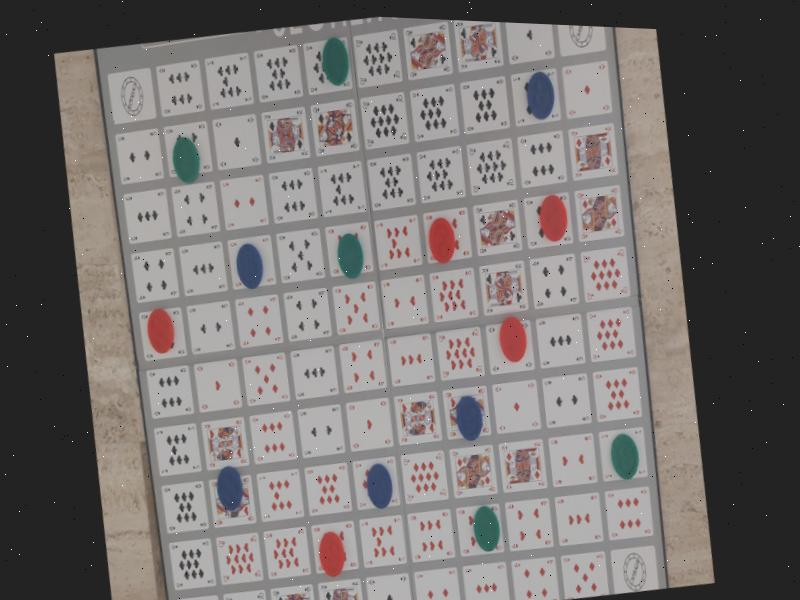Blue_Token: (520, 67, 562, 124), (230, 238, 271, 296), (360, 458, 399, 516), (451, 387, 489, 446), (211, 460, 250, 517)
Board: (92, 17, 670, 600)
Green_Token: (604, 425, 646, 486), (329, 227, 371, 284), (165, 131, 206, 189), (315, 31, 356, 88), (466, 500, 505, 558)
Red_Token: (532, 185, 574, 245), (493, 308, 534, 367), (422, 210, 463, 267), (141, 303, 179, 356), (314, 527, 351, 581)
